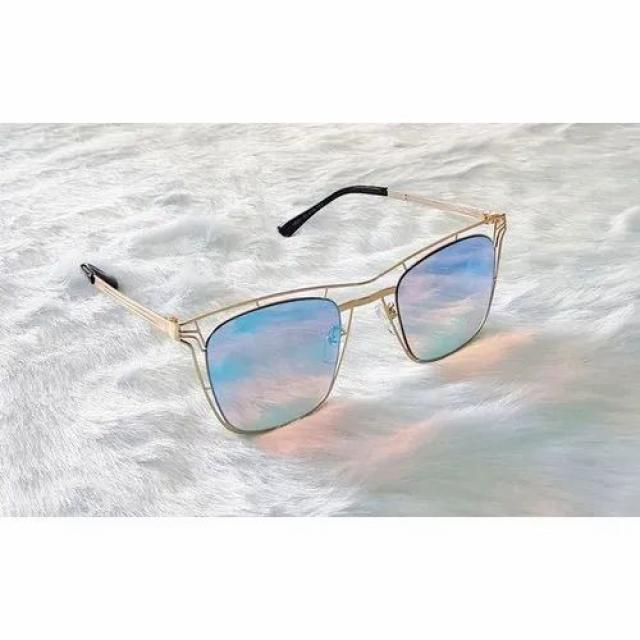suspicious-objects: (176, 215, 501, 433)
